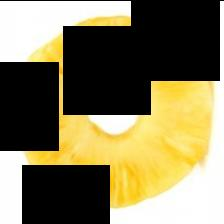yellow: (13, 15, 212, 206)
